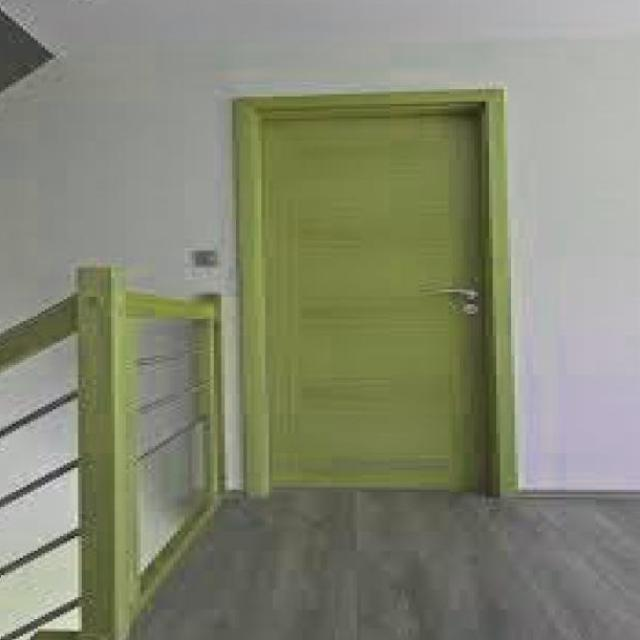door: (251, 101, 487, 494)
